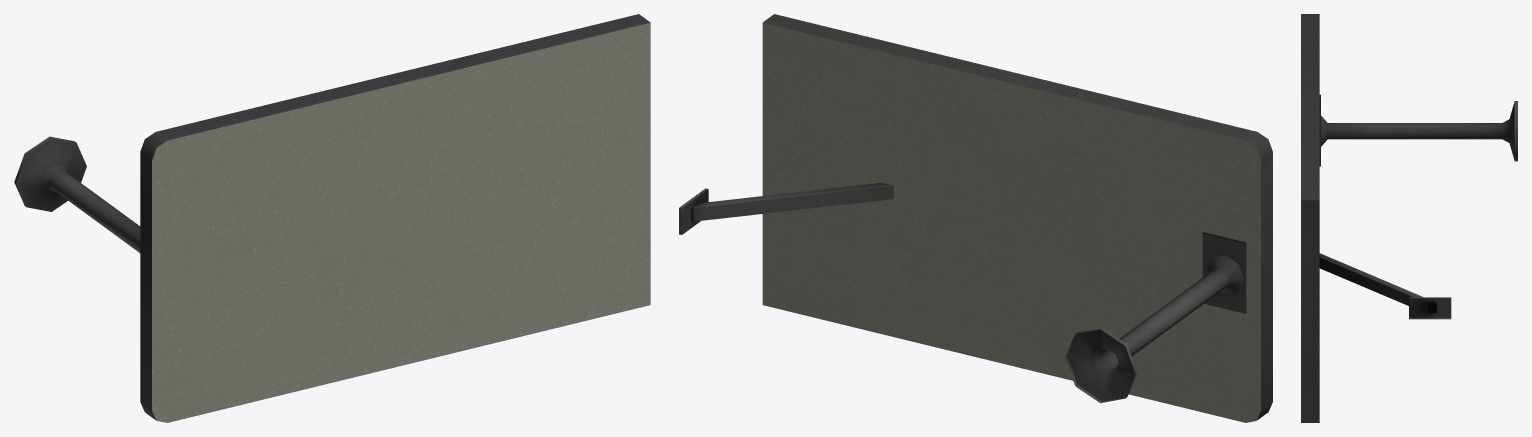
Rendered from nt_kitchen_table_LOD1.obj.
The picture shows the model from 3 angles, left to right: view 1: azimuth 30°, elevation 25°; view 2: azimuth 150°, elevation 25°; view 3: azimuth 270°, elevation 25°; orthographic projection. The views are drawn at different scales.
Parts seen in each view (by area): view 1: mtl_nt_kitchen_table; view 2: mtl_nt_kitchen_table; view 3: mtl_nt_kitchen_table.
Part boxes in pixels (bbox=[...]): mtl_nt_kitchen_table: bbox=[14, 14, 650, 422]; mtl_nt_kitchen_table: bbox=[679, 14, 1272, 422]; mtl_nt_kitchen_table: bbox=[1301, 14, 1517, 422].
Bounding box in the file's own units: 183 × 99.06 × 87.47.
